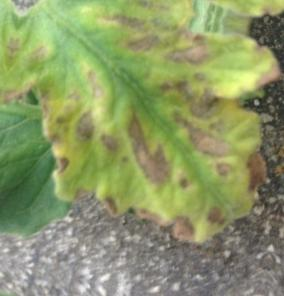Tomato mold leaf: (0, 0, 284, 260)
